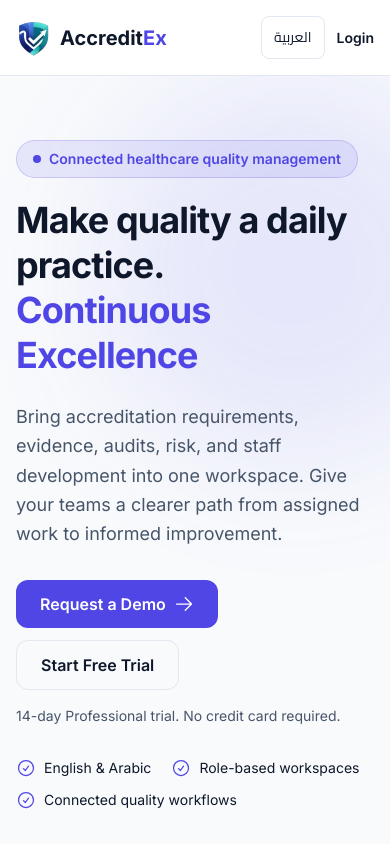
it: Public landing experience › shows the duplicate submission error and keeps the form available
The width and height of the screenshot is (390, 844).
Click the button "Request a Demo". click: (117, 604)
box: left=16, top=580, right=218, bottom=628
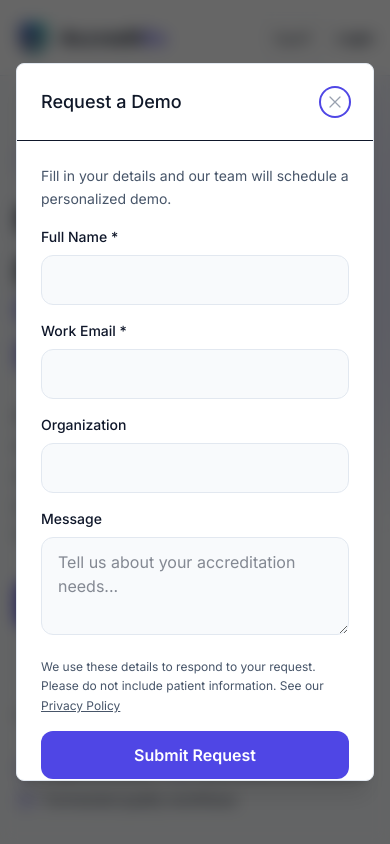
Type "  Demo Person  " into the field labelled "Full Name *". click: (195, 280)
box: left=41, top=255, right=349, bottom=305
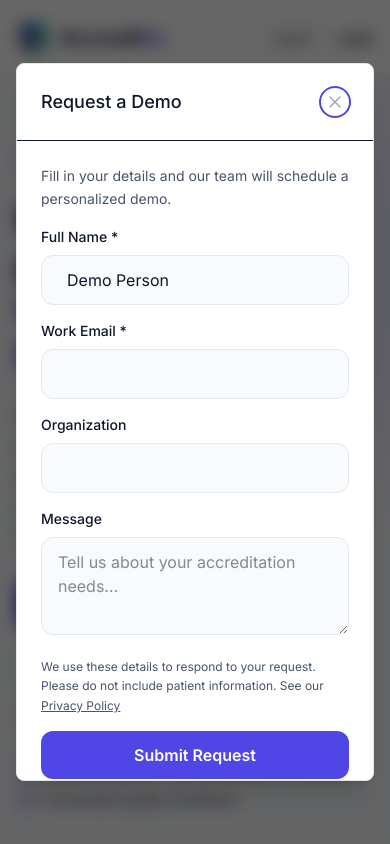
Type "demo@example.test" into the field labelled "Work Email *". click: (195, 374)
box: left=41, top=349, right=349, bottom=399
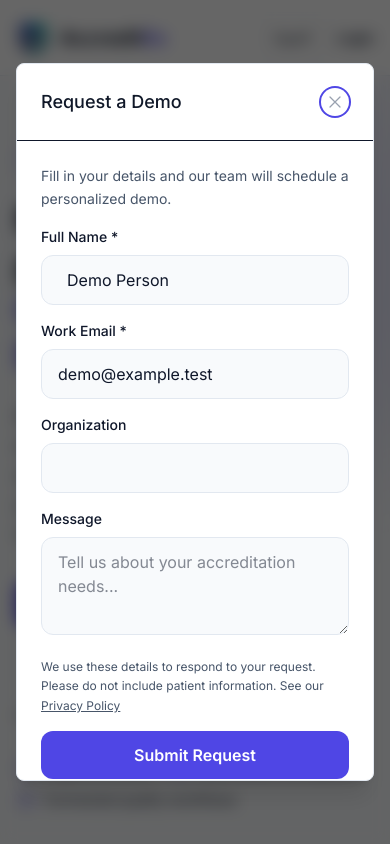
Click the button "Submit Request". click: (195, 755)
box: left=41, top=731, right=349, bottom=779
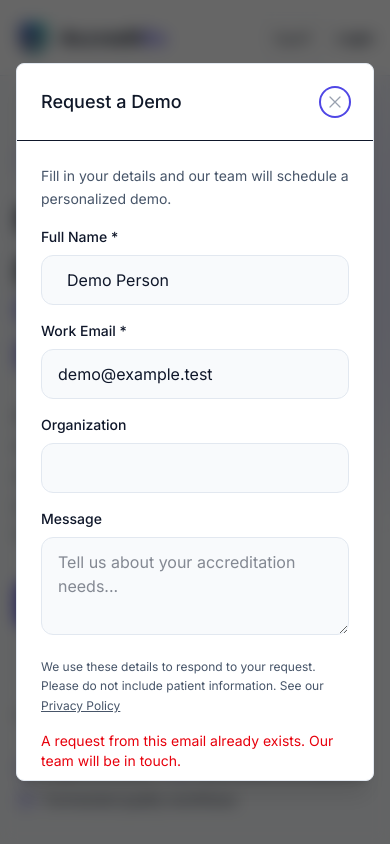
Expected: the message shows "A request from this email already exists.", left=41, top=732, right=333, bottom=769
